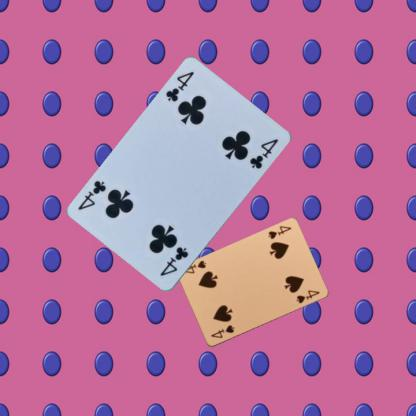4c: (157, 244, 190, 278), (163, 69, 195, 103)
4s: (208, 322, 236, 340), (265, 224, 292, 241)
